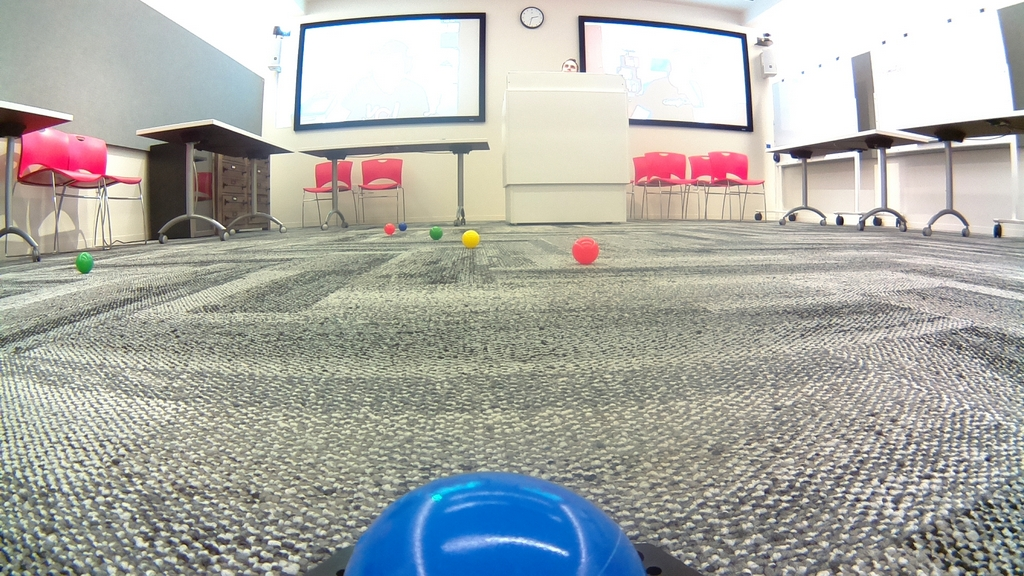ball: (384, 223, 397, 235)
